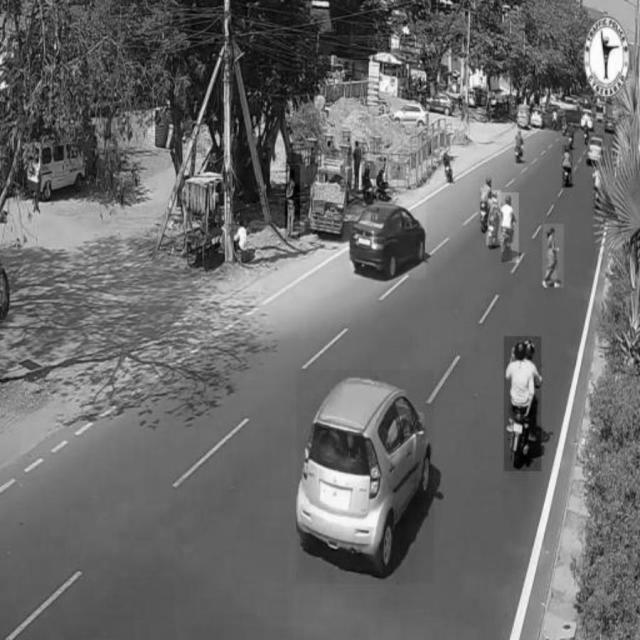person: (543, 224, 563, 288), (285, 166, 300, 242)
vehicle: (297, 370, 434, 584), (351, 201, 427, 279), (504, 337, 541, 471), (502, 192, 519, 263), (486, 190, 501, 245), (479, 176, 491, 232), (587, 136, 604, 166), (563, 146, 573, 188)
